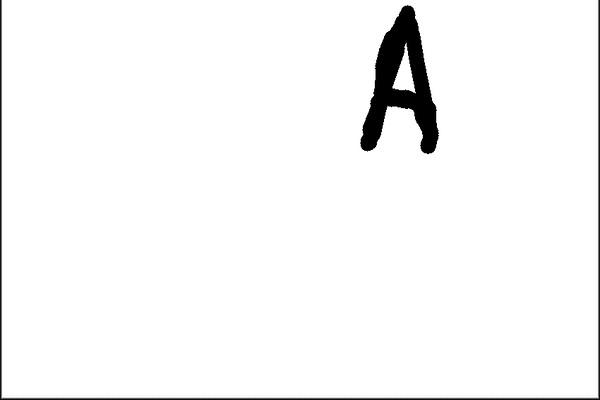A: (347, 4, 455, 158)
